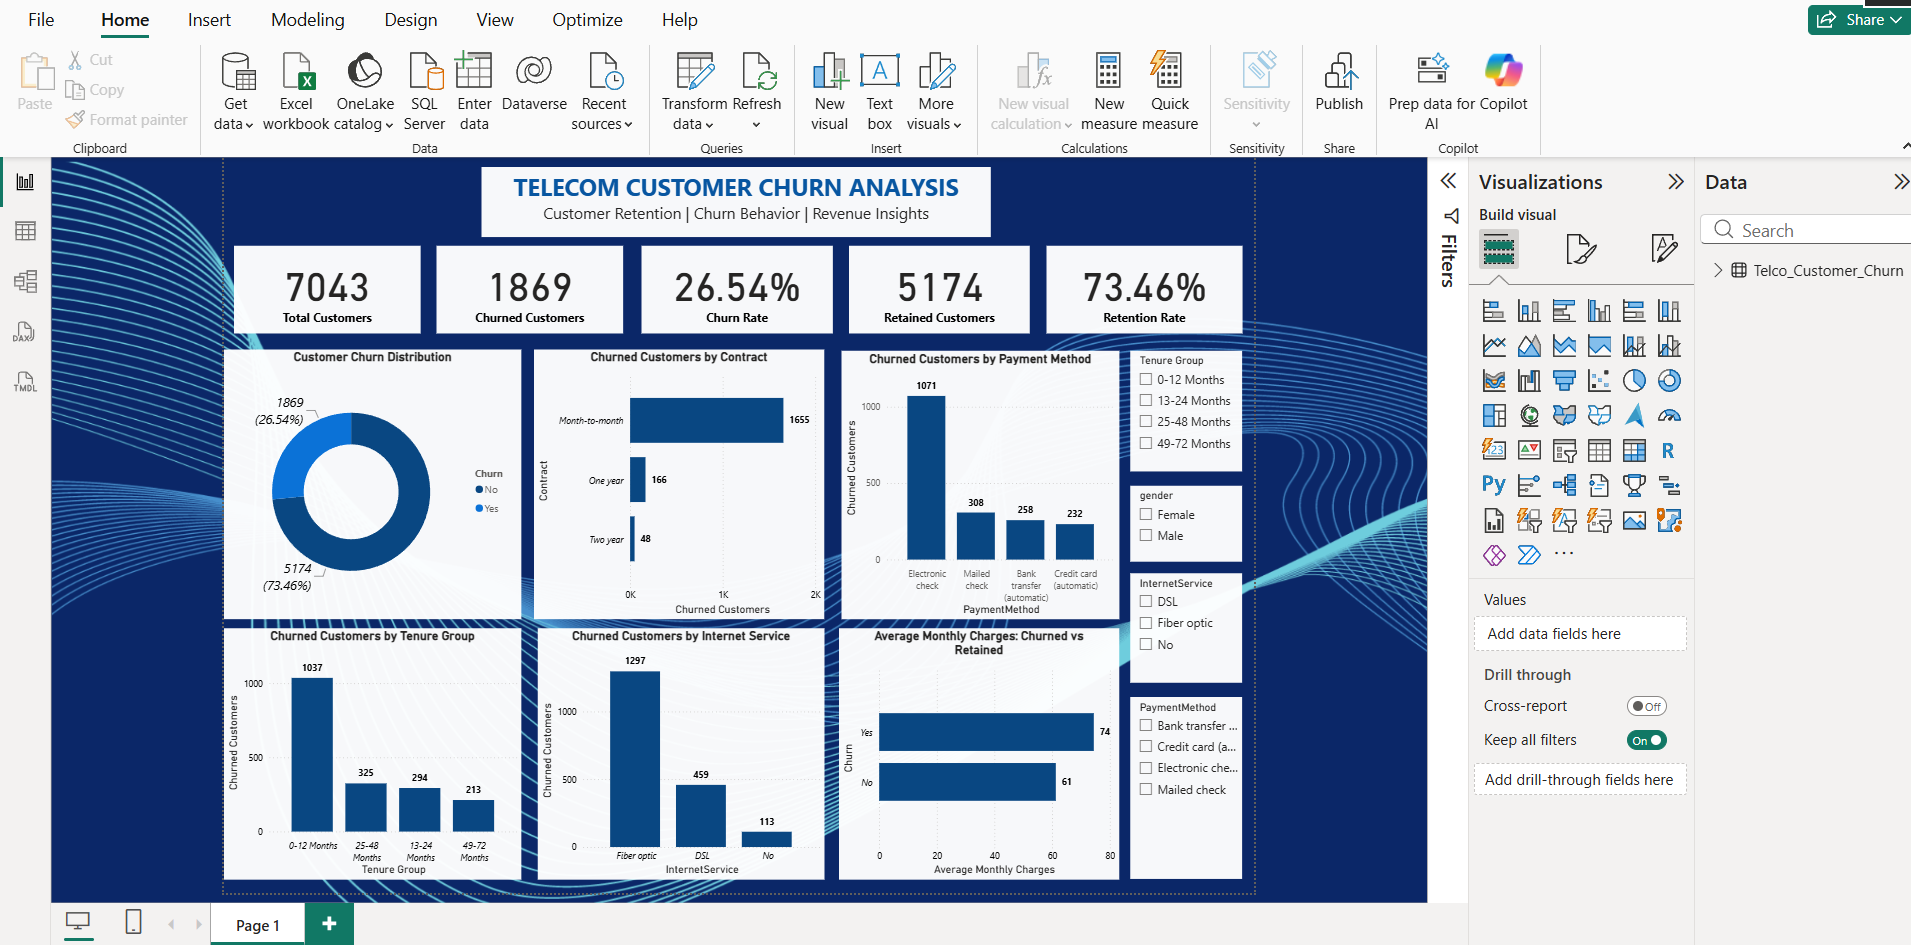

This screenshot's page, from the dashboard's own definition file:
{"tool":"powerbi","page":{"name":"Page 1","canvas":[1400,1000],"ordinal":0},"visuals":[{"type":"card","fields":{"Values":["Telco_Customer_Churn.Retention Rate"]},"box":[1117.7,120.5,266.1,119],"z":0},{"type":"card","fields":{"Values":["Telco_Customer_Churn.Retained Customers"]},"box":[850,120.5,245.8,119],"z":1000},{"type":"card","fields":{"Values":["Telco_Customer_Churn.Churn Rate"]},"box":[566.7,120.5,259.9,119],"z":2000},{"type":"card","fields":{"Values":["Telco_Customer_Churn.Churned Customers"]},"box":[288,120.5,253.6,119],"z":3000},{"type":"card","fields":{"Values":["Telco_Customer_Churn.Total Customers"]},"box":[14.1,120.5,253.6,119],"z":4000},{"type":"donutChart","title":"Customer Churn Distribution","fields":{"Category":["Telco_Customer_Churn.Churn"],"Y":["CountNonNull(Telco_Customer_Churn.customerID)"]},"box":[0,261.4,403.9,366.3],"z":5000},{"type":"clusteredBarChart","fields":{"Category":["Telco_Customer_Churn.Contract"],"Y":["Telco_Customer_Churn.Churned Customers"]},"box":[421.1,261.4,394.5,366.3],"z":6000},{"type":"clusteredColumnChart","title":"Churned Customers by Payment Method","fields":{"Category":["Telco_Customer_Churn.PaymentMethod"],"Y":["Telco_Customer_Churn.Churned Customers"]},"box":[839.1,263,377.3,364.7],"z":7000},{"type":"clusteredColumnChart","title":"Churned Customers by Internet Service","fields":{"Category":["Telco_Customer_Churn.InternetService"],"Y":["Telco_Customer_Churn.Churned Customers"]},"box":[425.8,640.3,389.8,341.3],"z":8000},{"type":"clusteredColumnChart","fields":{"Y":["Telco_Customer_Churn.Churned Customers"],"Category":["Telco_Customer_Churn.Tenure Group"]},"box":[0,640.3,403.9,341.3],"z":9000},{"type":"clusteredBarChart","title":"Average Monthly Charges: Churned vs Retained","fields":{"Y":["Telco_Customer_Churn.Average Monthly Charges"],"Category":["Telco_Customer_Churn.Churn"]},"box":[835.9,640.3,380.4,341.3],"z":10000},{"type":"slicer","fields":{"Values":["Telco_Customer_Churn.Tenure Group"]},"box":[1232,263,151.8,164.4],"z":11000},{"type":"textbox","box":[350.7,14.1,691.9,95.5],"z":12000},{"type":"slicer","fields":{"Values":["Telco_Customer_Churn.gender"]},"box":[1232,446.2,151.8,103.3],"z":12001},{"type":"slicer","fields":{"Values":["Telco_Customer_Churn.InternetService"]},"box":[1232,565.1,151.8,148.7],"z":12002},{"type":"slicer","fields":{"Values":["Telco_Customer_Churn.PaymentMethod"]},"box":[1232,734.2,151.8,247.3],"z":12004}]}

Visuals, with their boxes on the page's 1400x1000 design canvas (x1, y1, x2, y2). These are canvas units, not pixel positions in the 1911x945 screenshot, which may show the page scaled, cropped or inside an application window:
card - Telco_Customer_Churn.Retention Rate: [x1=1118, y1=120, x2=1384, y2=240]
card - Telco_Customer_Churn.Retained Customers: [x1=850, y1=120, x2=1096, y2=240]
card - Telco_Customer_Churn.Churn Rate: [x1=567, y1=120, x2=827, y2=240]
card - Telco_Customer_Churn.Churned Customers: [x1=288, y1=120, x2=542, y2=240]
card - Telco_Customer_Churn.Total Customers: [x1=14, y1=120, x2=268, y2=240]
"Customer Churn Distribution" donutChart: [x1=0, y1=261, x2=404, y2=628]
clusteredBarChart - Telco_Customer_Churn.Contract x Telco_Customer_Churn.Churned Customers: [x1=421, y1=261, x2=816, y2=628]
"Churned Customers by Payment Method" clusteredColumnChart: [x1=839, y1=263, x2=1216, y2=628]
"Churned Customers by Internet Service" clusteredColumnChart: [x1=426, y1=640, x2=816, y2=982]
clusteredColumnChart - Telco_Customer_Churn.Churned Customers x Telco_Customer_Churn.Tenure Group: [x1=0, y1=640, x2=404, y2=982]
"Average Monthly Charges: Churned vs Retained" clusteredBarChart: [x1=836, y1=640, x2=1216, y2=982]
slicer - Telco_Customer_Churn.Tenure Group: [x1=1232, y1=263, x2=1384, y2=427]
textbox: [x1=351, y1=14, x2=1043, y2=110]
slicer - Telco_Customer_Churn.gender: [x1=1232, y1=446, x2=1384, y2=550]
slicer - Telco_Customer_Churn.InternetService: [x1=1232, y1=565, x2=1384, y2=714]
slicer - Telco_Customer_Churn.PaymentMethod: [x1=1232, y1=734, x2=1384, y2=982]
